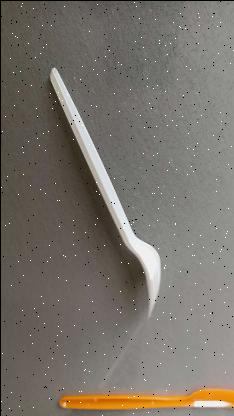Others: (41, 61, 164, 318), (48, 387, 234, 411)
